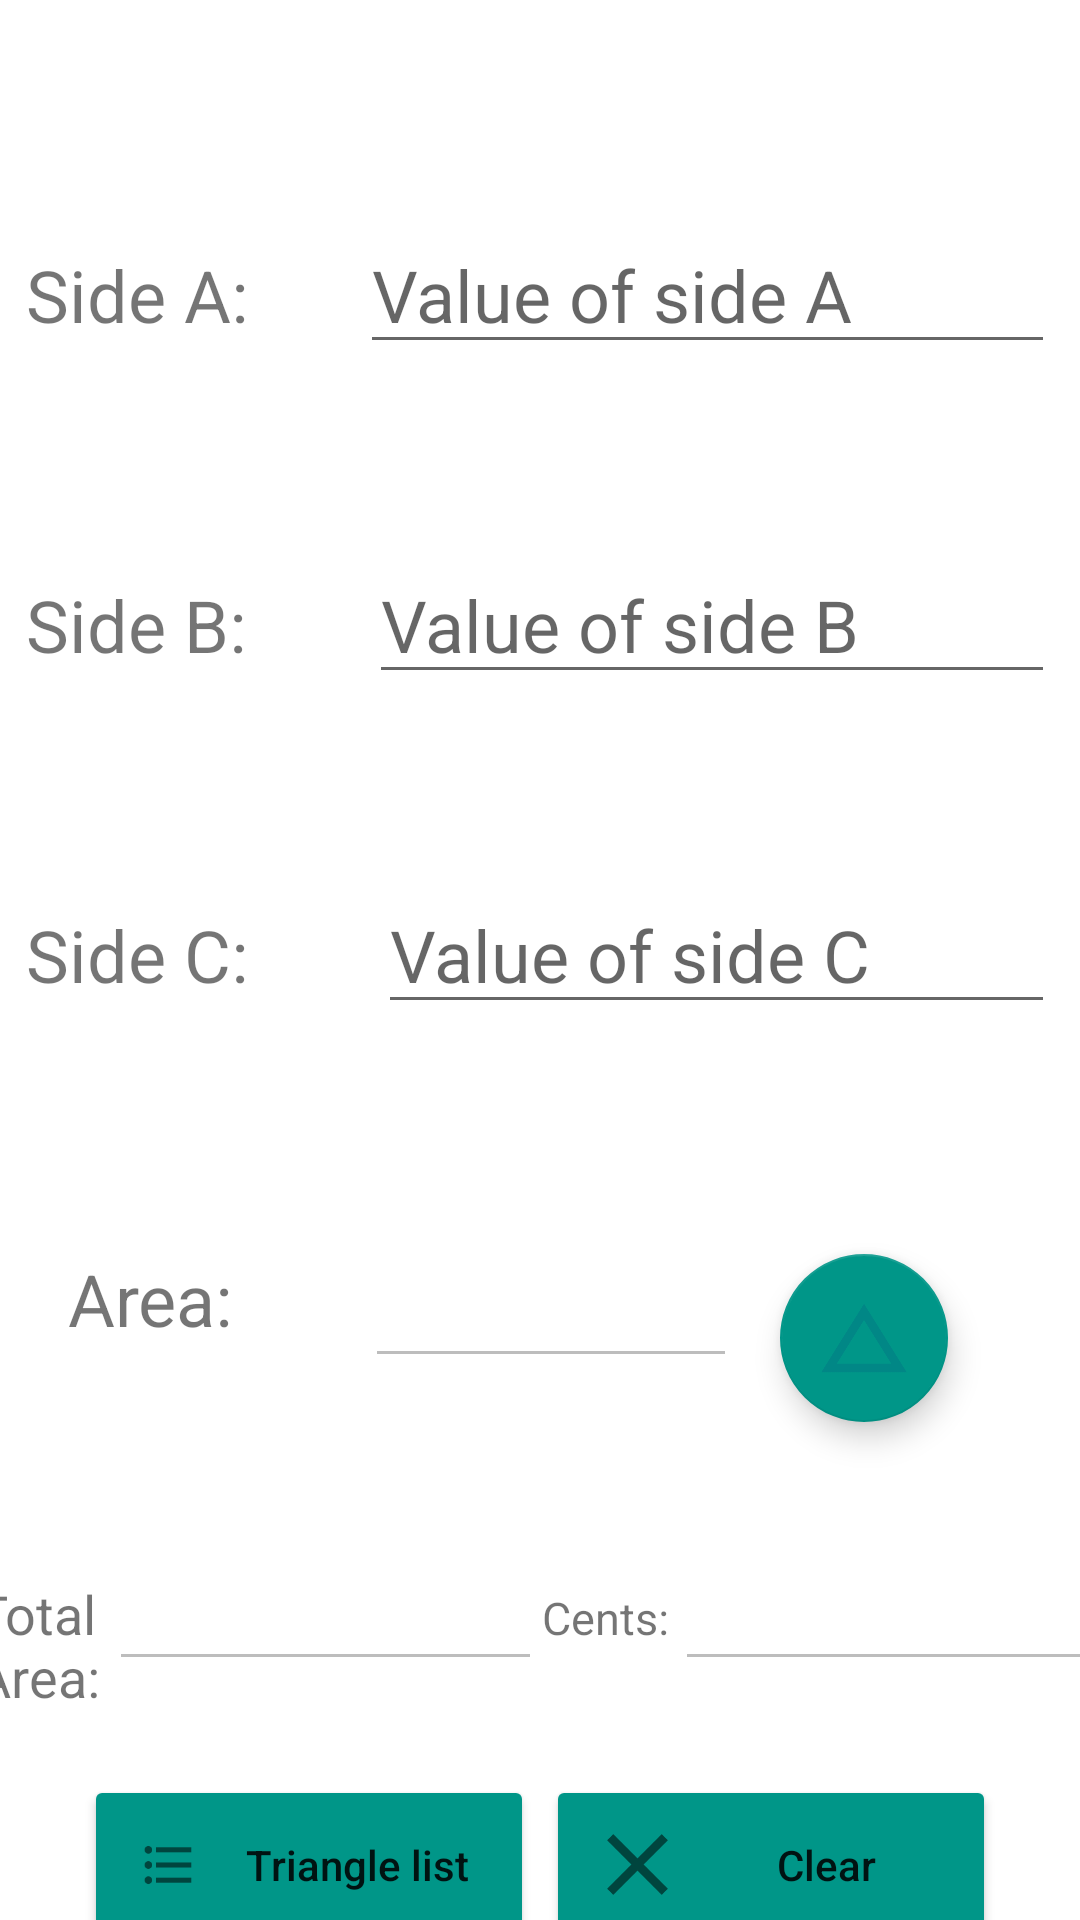

Named icons in this screenshot (1080w x 1920h) and their bounding boxes, (x1, y1, x2, y2):
Button to execute the area calculation: (780, 1254, 948, 1422)
